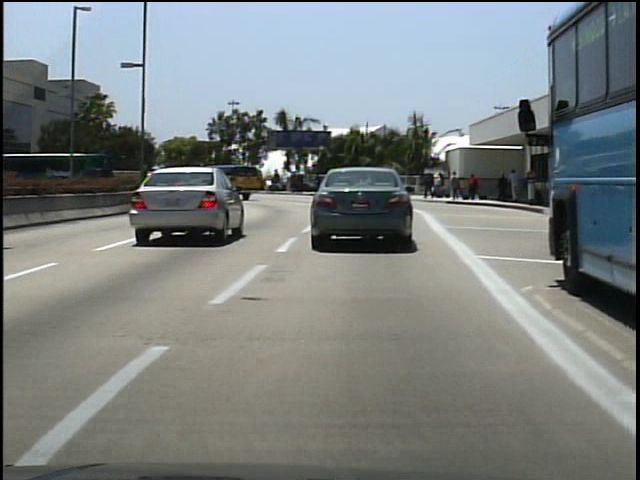person: (506, 166, 522, 204), (465, 170, 482, 203), (494, 171, 510, 204), (525, 169, 540, 204), (449, 169, 464, 202), (215, 168, 232, 193), (423, 172, 437, 201)
